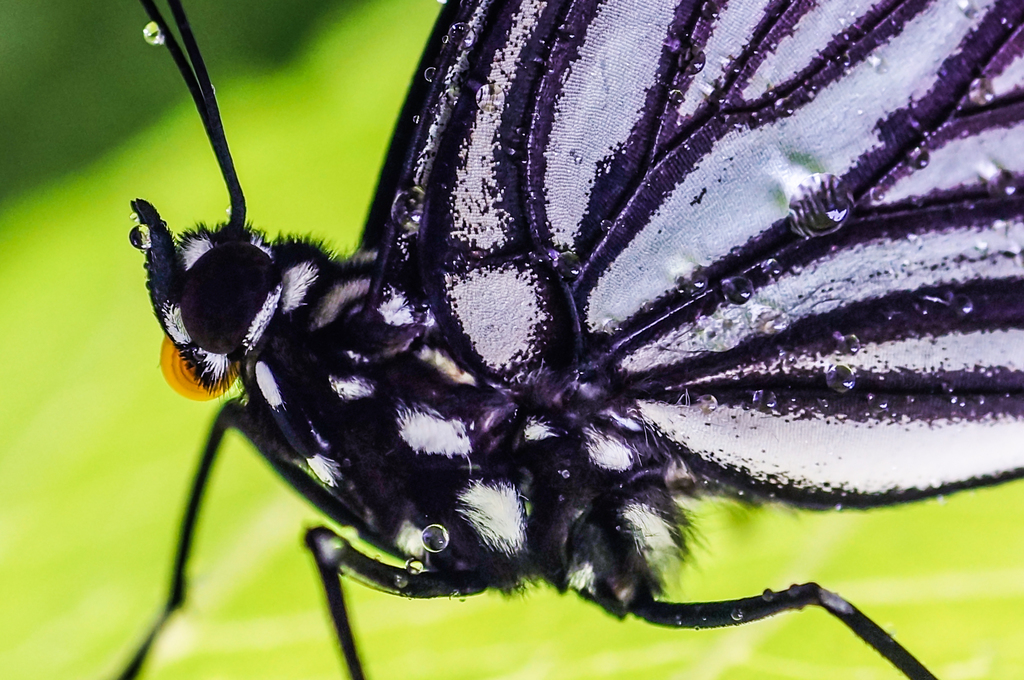Butterfly: (108, 1, 959, 650)
